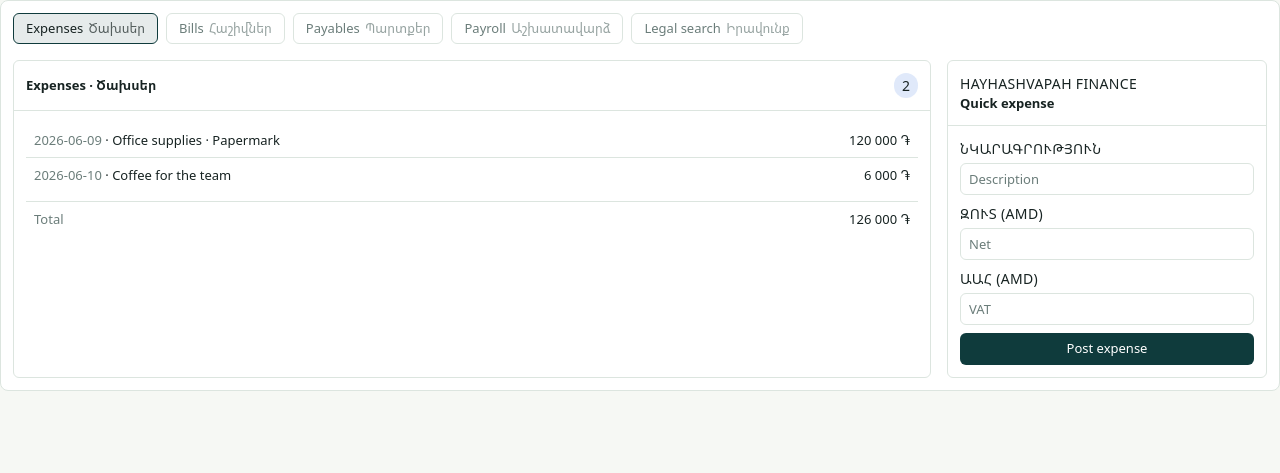
Test: FinanceWorkflowPanel — Bills tab › renders the bill rows when data loads
This screenshot has width=1280, height=473.
Click the tab "Bills Հաշիվներ" at point(225, 29), box [166,13,285,44]
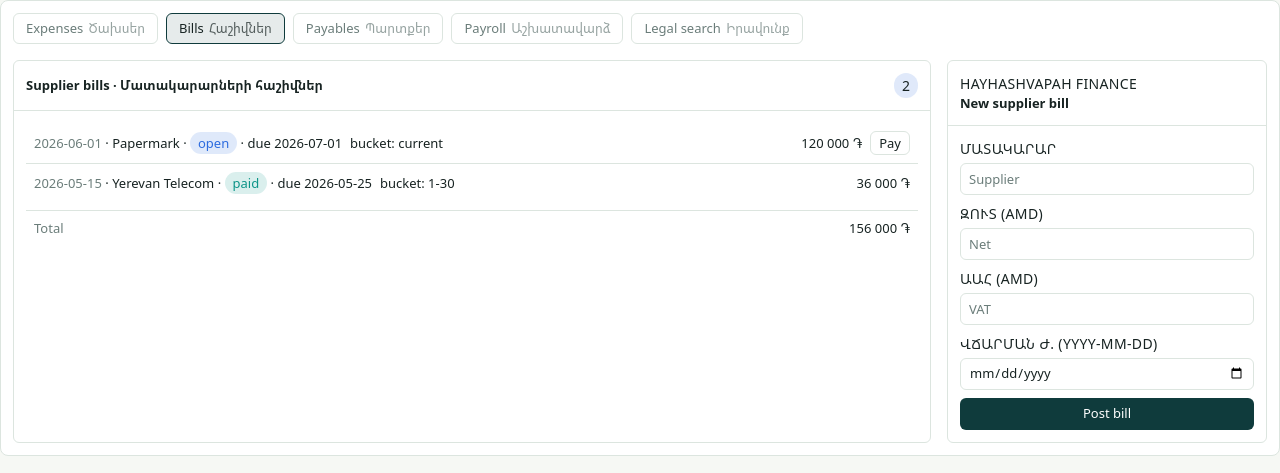
Expected: the text "2026-06-01 · Papermark · open · due 2026-07-01" is shown, [34,134,342,152]
Expected: the number of list items is 2, [26,123,918,164]; [34,172,910,194]
Expected: the text "2026-05-15 · Yerevan Telecom · paid · due 2026-05-25" is shown, [34,174,372,192]
